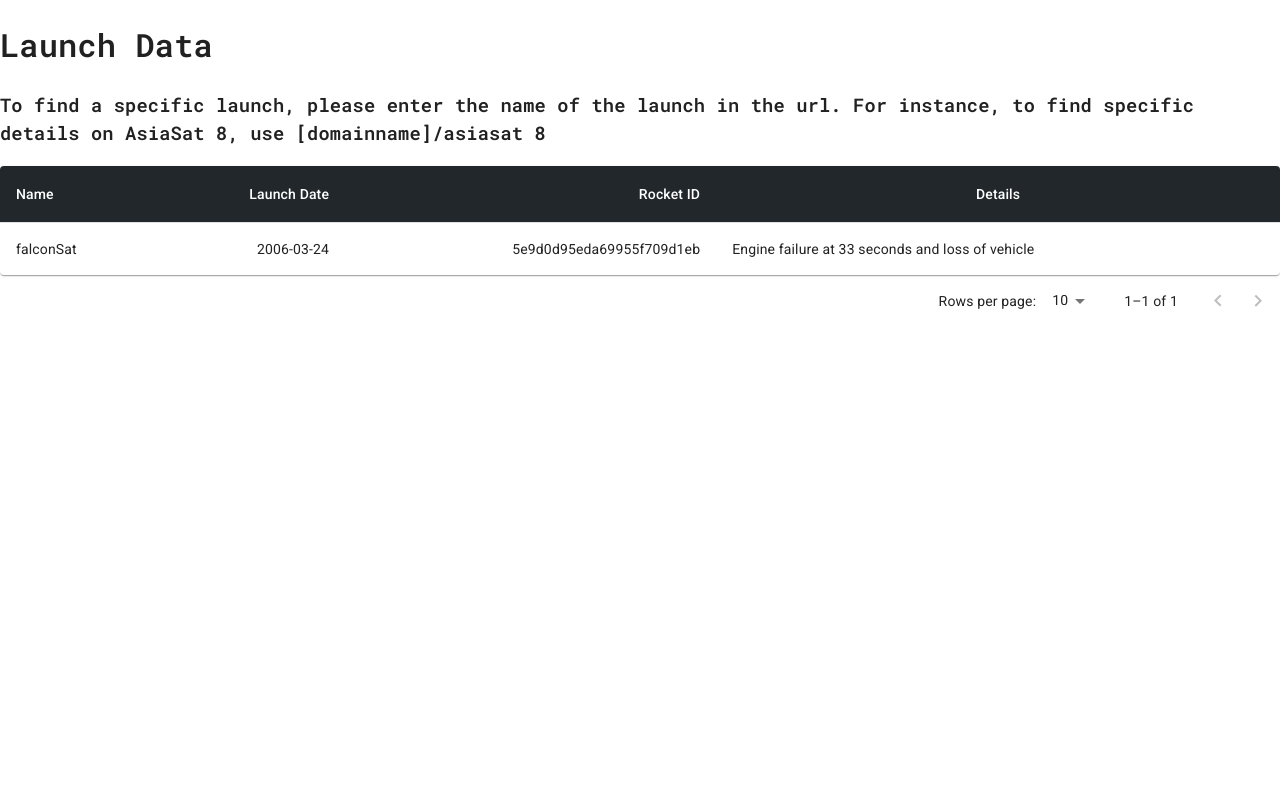
Test case: Main Table component › Loads the modal and passed through the correct information to the modal when the user clicks on the name column cell
Step 1. Click the column heading "falconSat" → (78, 249), box [0,222,156,275]
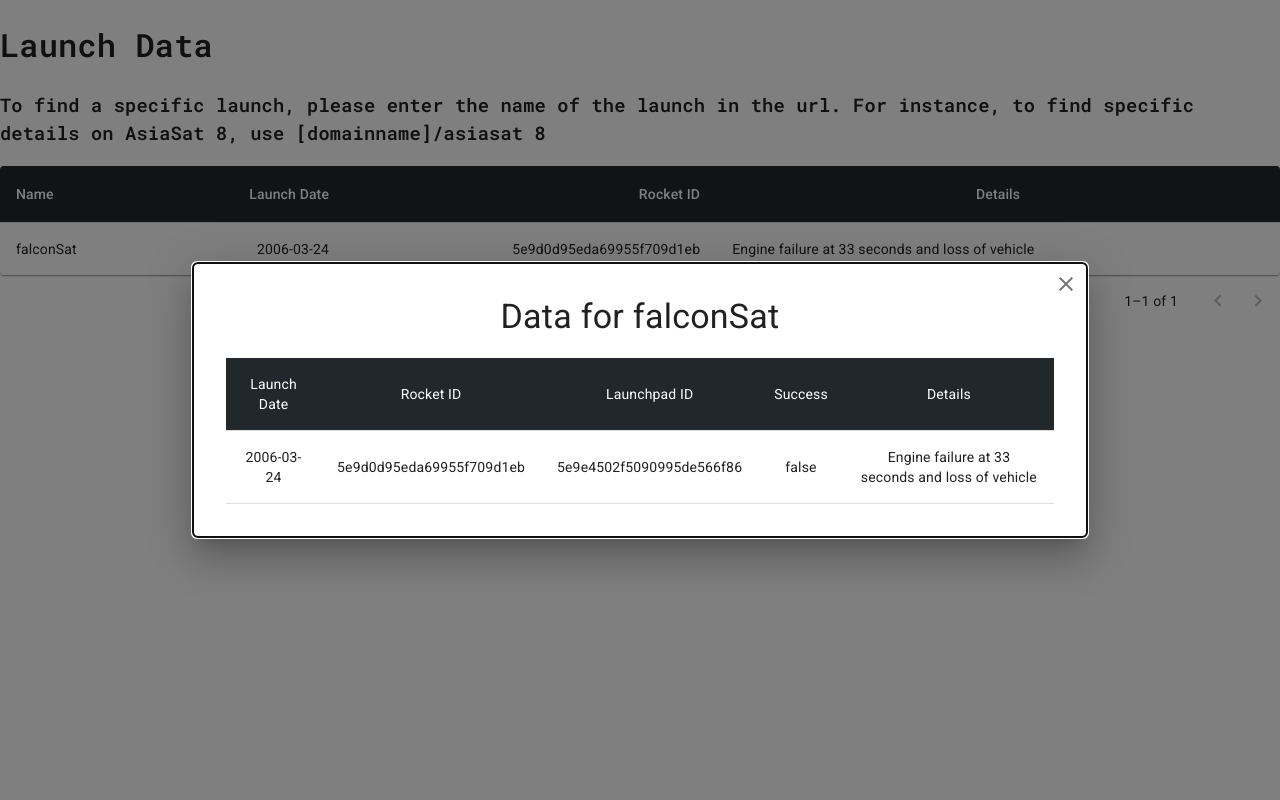
Now the text "false" is shown, box [758,430,844,504]
Now the text "5e9e4502f5090995de566f86" is shown, box [541,430,758,504]
